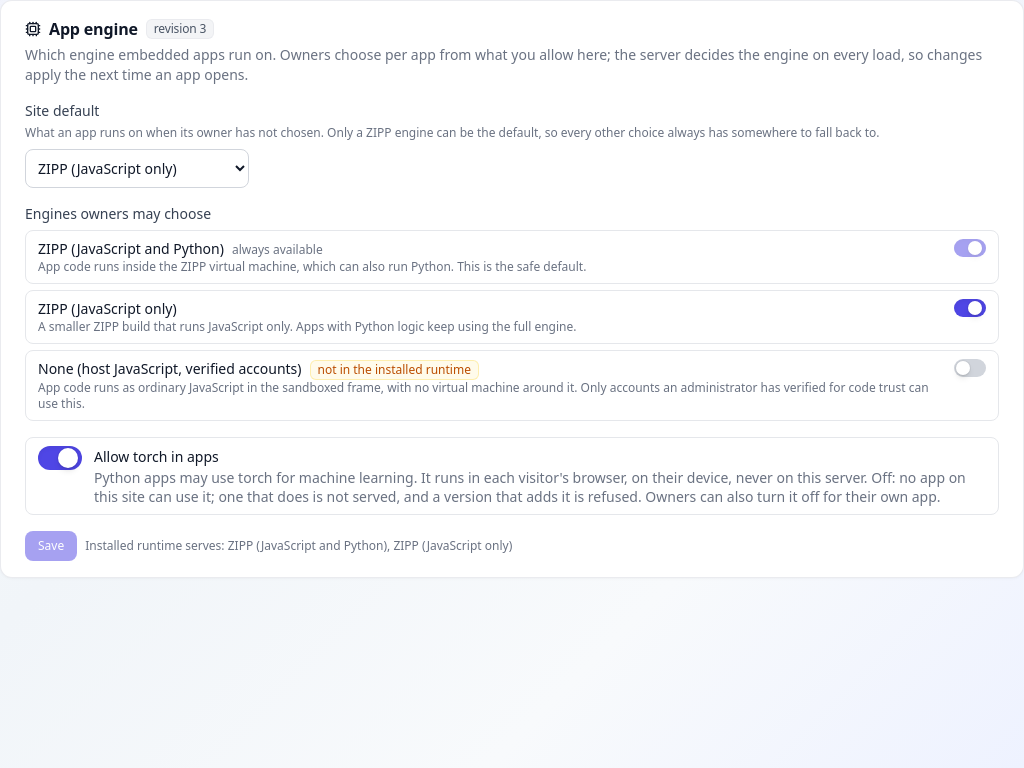
it: moves the default back to the fallback when its engine is switched off
Expected: the dropdown with id "engine-default" shows "ZIPP (JavaScript only)", [25,149,249,188]
Click the switch named "Allow ZIPP (JavaScript only)".
click(970, 308)  # box [954,299,986,317]
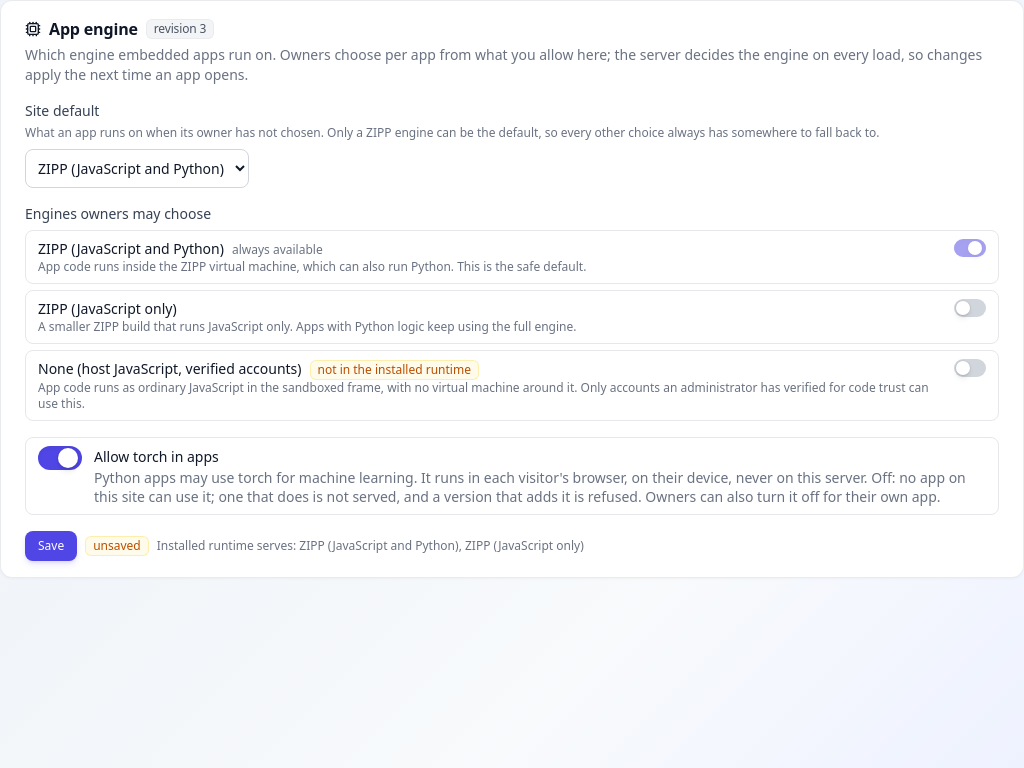
Result: the dropdown with id "engine-default" shows "ZIPP (JavaScript and Python)" at [25,149,249,188]
